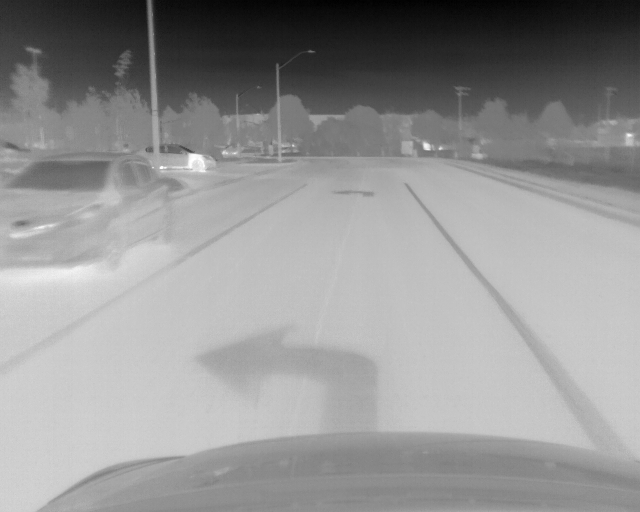car: (1, 152, 174, 273), (141, 145, 220, 169)
